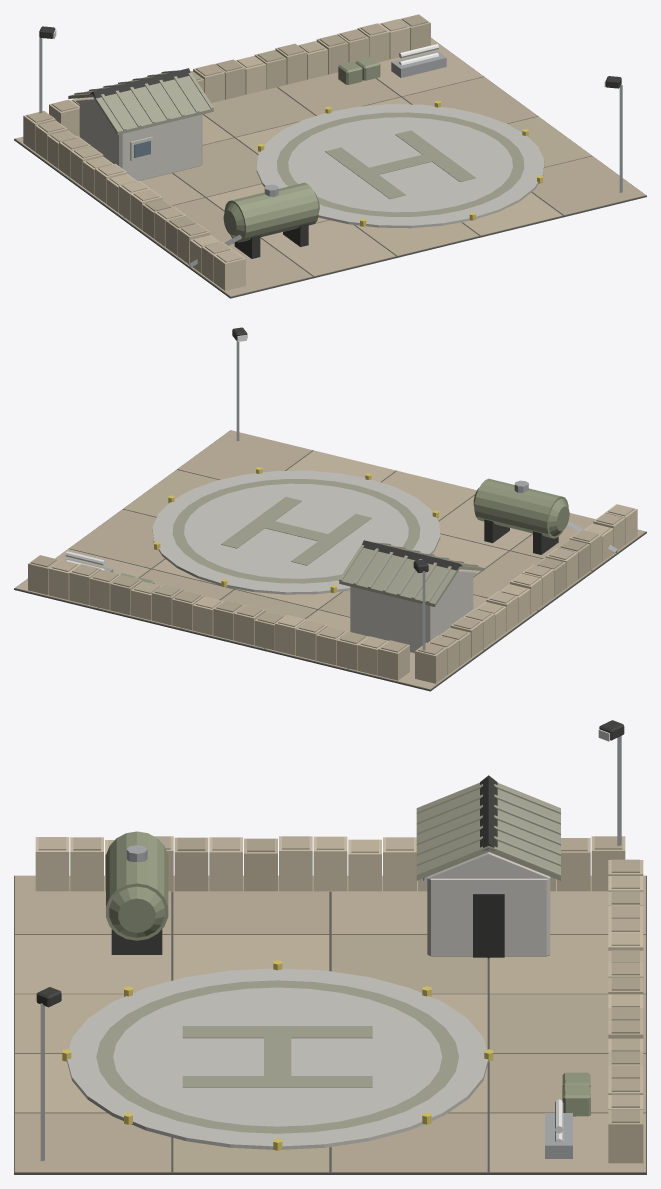
File: b_heliatk.glb
The picture shows the model from 3 angles, top to bottom: view 1: azimuth 30°, elevation 25°; view 2: azimuth 150°, elevation 25°; view 3: azimuth 270°, elevation 25°; orthographic projection. The views are drawn at different scales.
Parts seen in each view (by area): view 1: hull; view 2: hull; view 3: hull.
Boxes of the visible parts, box(x1,y1,x2,y2) form: hull: box(14, 14, 646, 298); hull: box(14, 327, 646, 691); hull: box(14, 720, 646, 1174).
Bounding box in the file's own units: 20.28 × 5.28 × 18.
